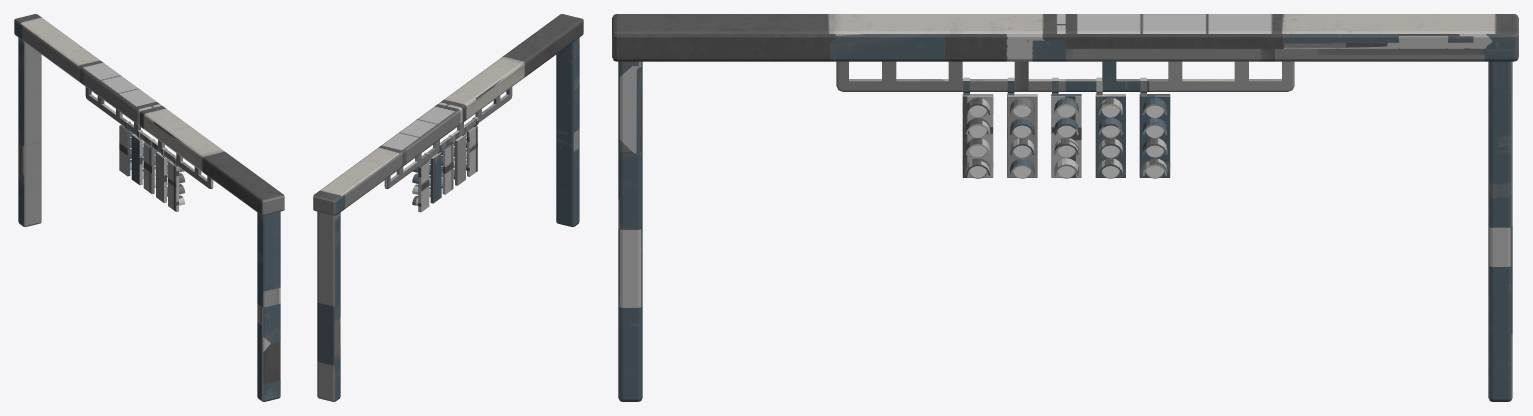
File: StartSign.fbx
The picture shows the model from 3 angles, left to right: view 1: azimuth 30°, elevation 25°; view 2: azimuth 150°, elevation 25°; view 3: azimuth 270°, elevation 25°; orthographic projection. The views are drawn at different scales.
Parts seen in each view (by area): view 1: Sign; view 2: Sign; view 3: Sign, Lights.
Part boxes in pixels (x1,y1,x2,y2): Sign: (14, 14, 284, 401); Sign: (313, 14, 583, 401); Sign: (612, 14, 1518, 401); Lights: (969, 105, 1163, 177).
Size of the model in its own units: 112 by 930 by 2050.
